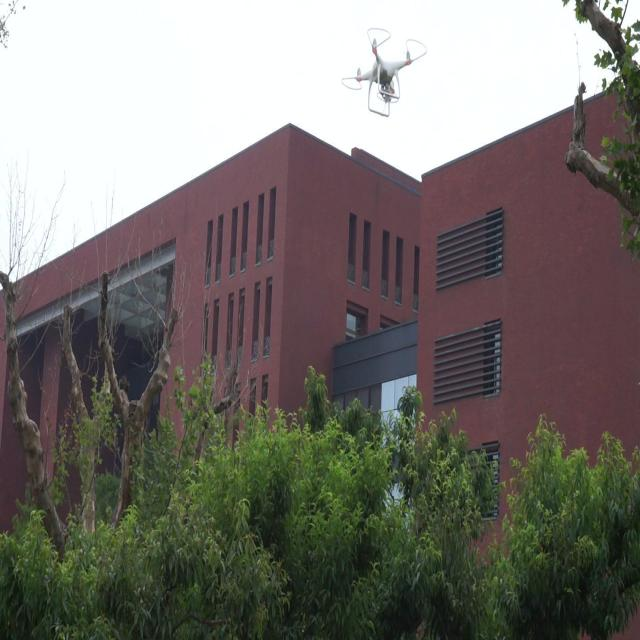drone: (341, 22, 427, 122)
